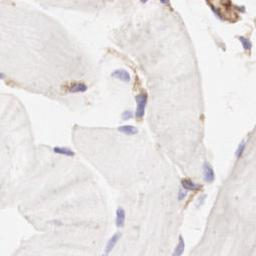nucleus: (104, 232, 121, 252), (202, 161, 216, 185), (110, 67, 131, 82), (232, 138, 246, 159), (53, 144, 75, 157), (173, 234, 185, 256), (135, 96, 145, 118), (116, 205, 125, 229), (119, 125, 140, 135), (238, 35, 252, 50), (120, 109, 136, 120), (197, 193, 207, 206), (182, 181, 196, 189), (212, 8, 222, 18), (73, 86, 89, 92), (178, 192, 187, 199), (139, 1, 150, 5), (161, 1, 167, 6), (1, 74, 5, 80)
positive_cell: (132, 78, 147, 120), (234, 30, 254, 55), (64, 80, 91, 94), (211, 6, 228, 23), (180, 177, 195, 189), (1, 73, 12, 86)
